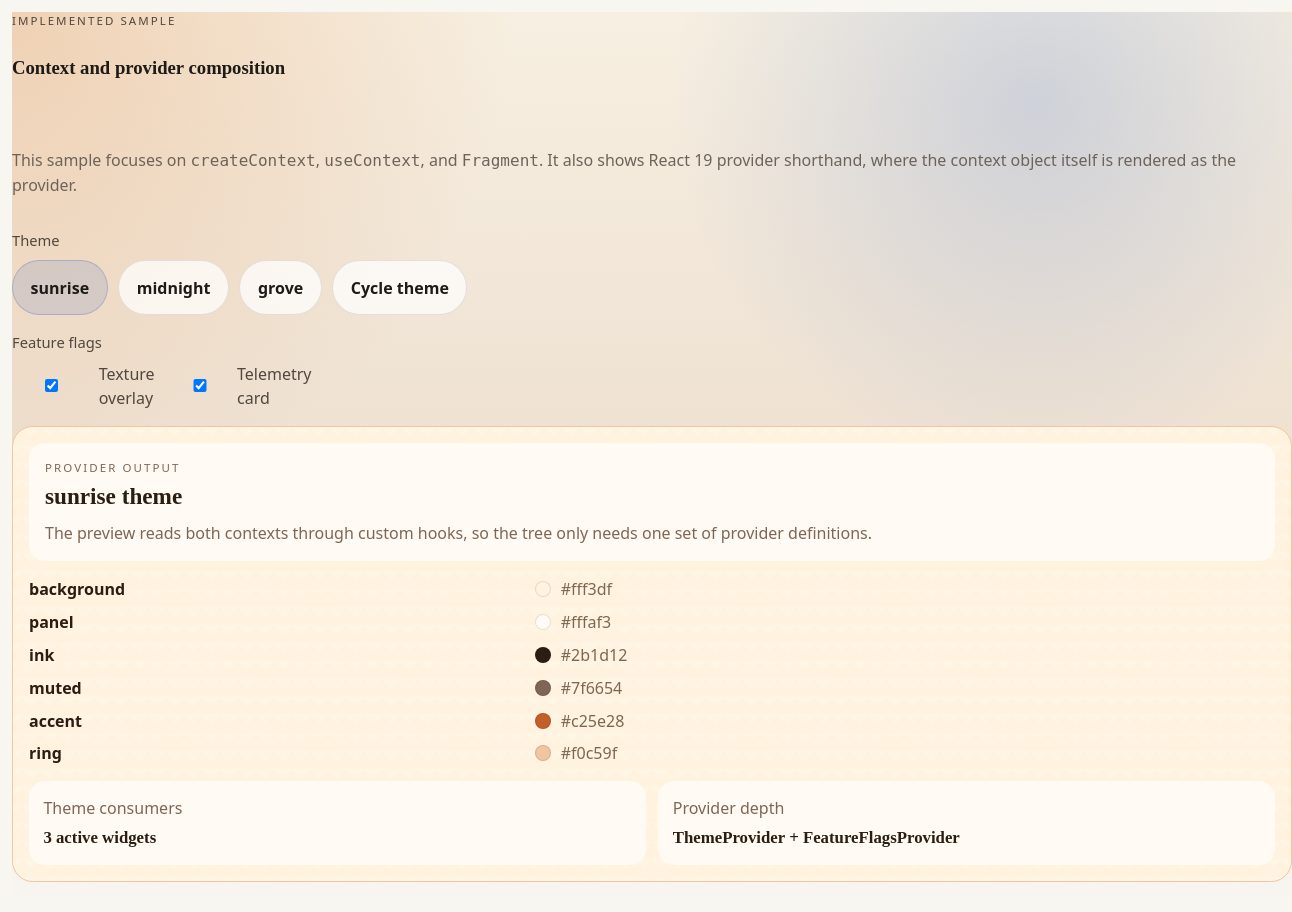
Test case: context theme sample › switches themes and toggles feature-flagged output
Click the button "midnight" at (174, 288), box [118,260,229,315]
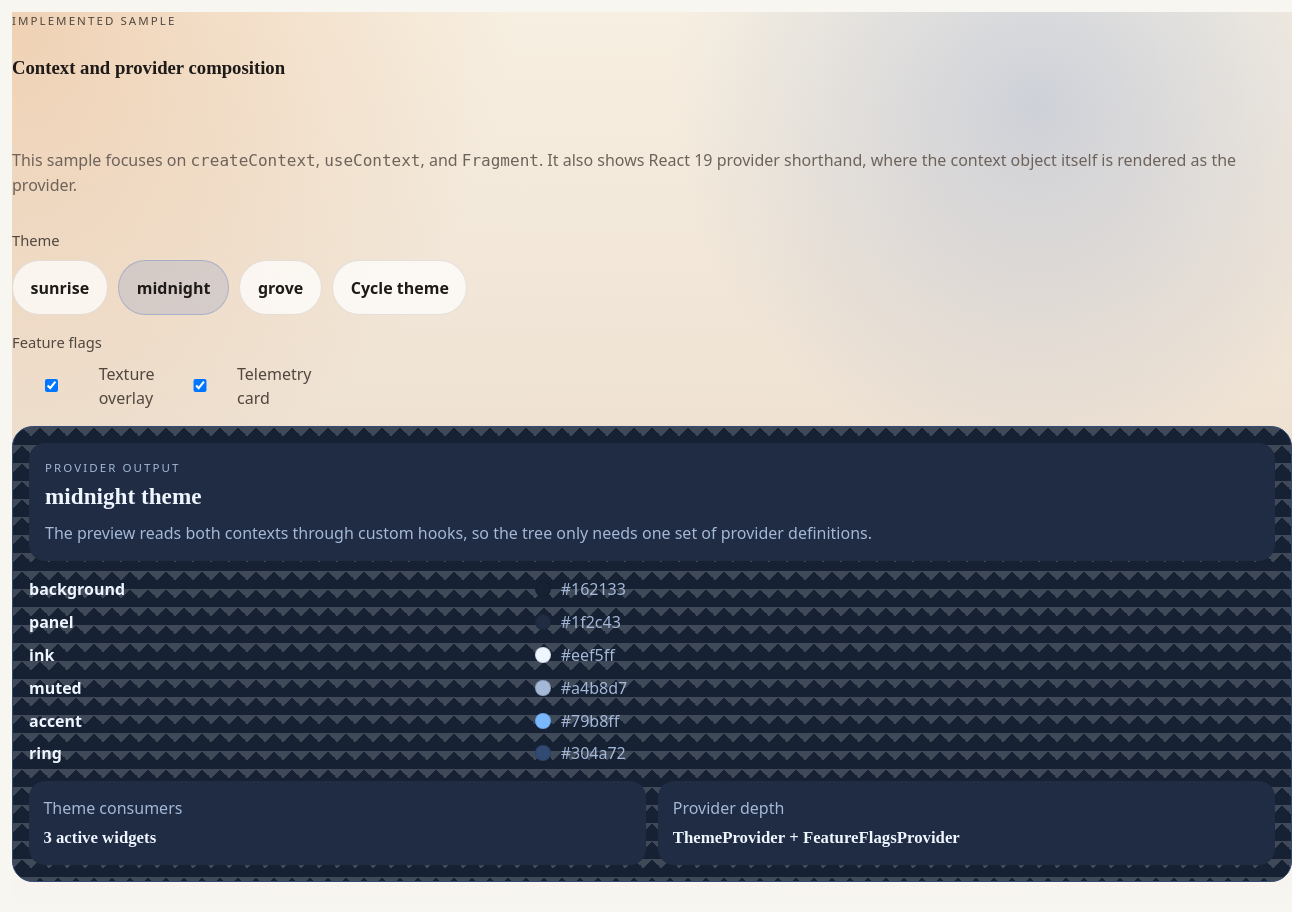
Check: the heading "midnight theme" is shown, box [45,483,202,509]
Check: the text "#162133" is shown, box [535,578,626,600]
Click the checkbox labelled "Telemetry card" at (200, 386), box [175,379,225,392]
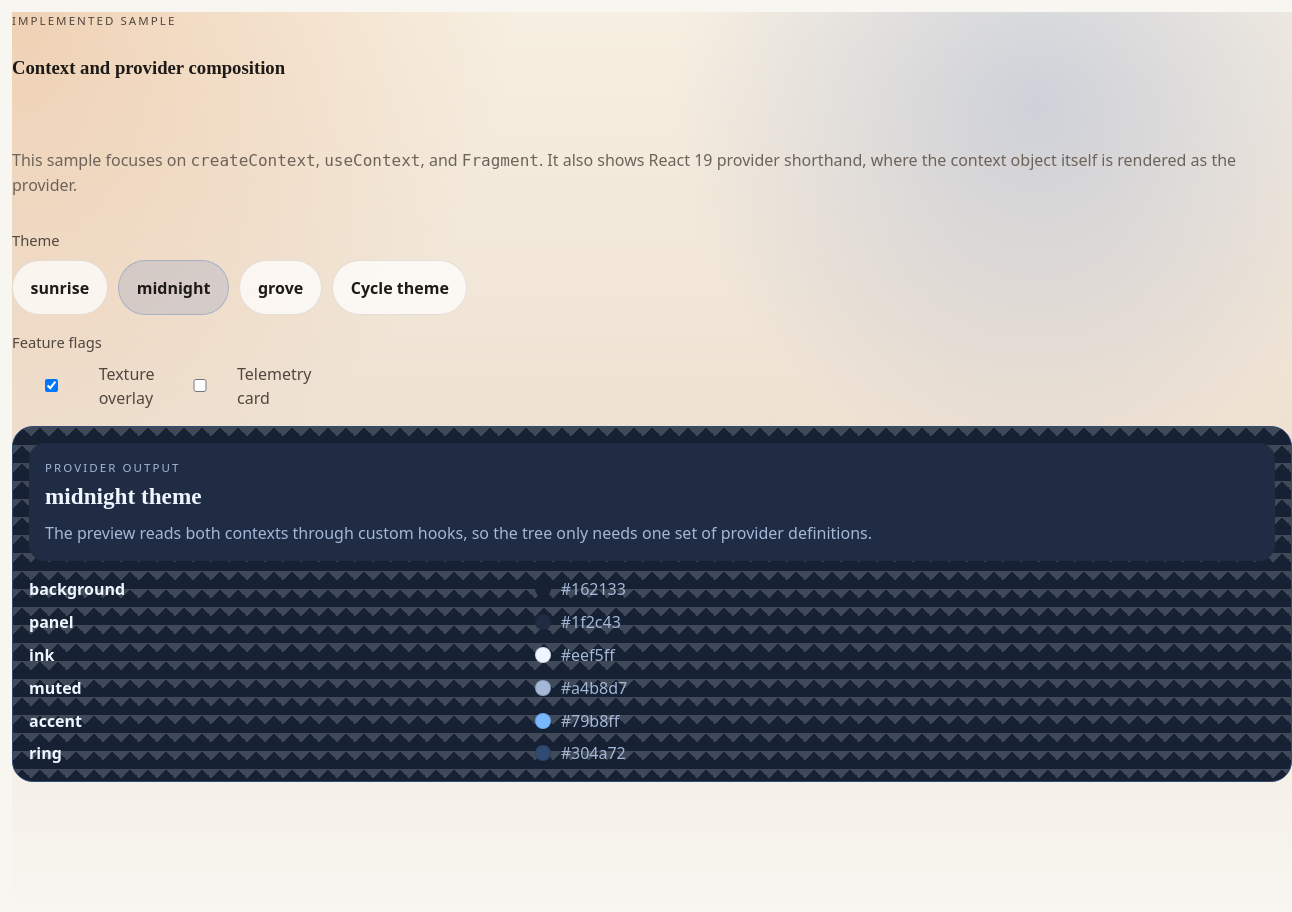
Check: the text "Theme consumers" is gone
Check: the text "Provider depth" is gone
Click the checkbox labelled "Texture overlay" at (51, 386), box [16,379,87,392]
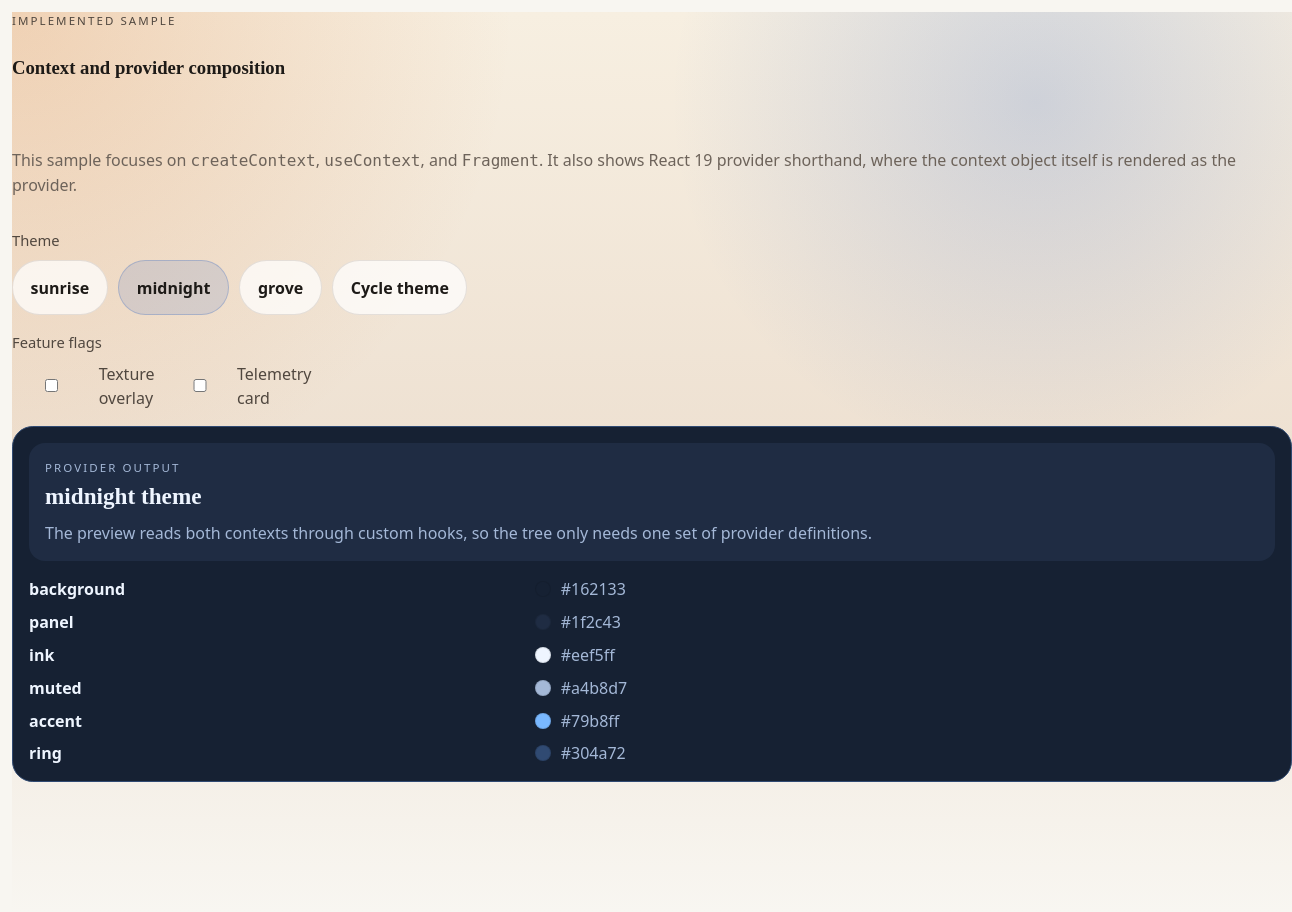
Check: the element "midnight theme" is shown, box [12,426,1291,782]
Click the button "Cycle theme" at (400, 288), box [332,260,468,315]
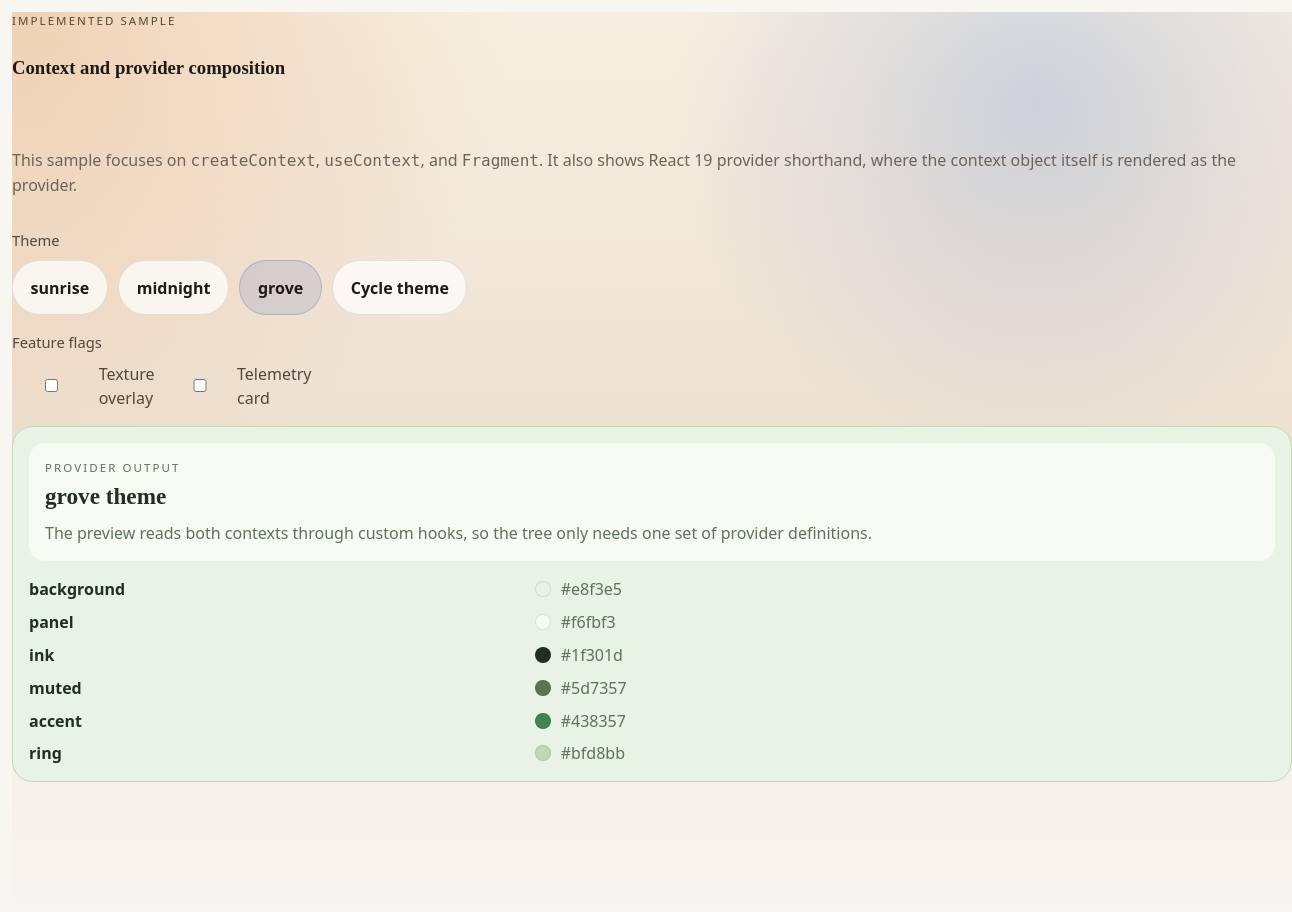
Check: the heading "grove theme" is shown, box [45,483,166,509]
Check: the text "#e8f3e5" is shown, box [535,578,622,600]
